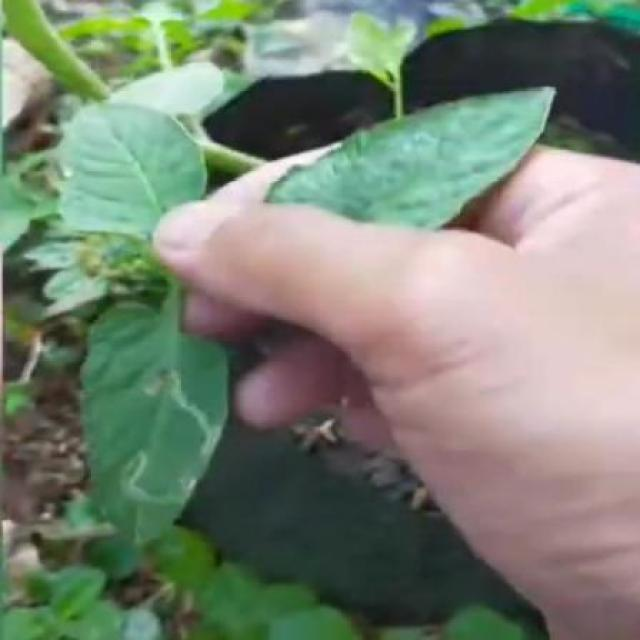Healthy: (55, 102, 208, 235)
Leaf Miner: (78, 293, 233, 578)
